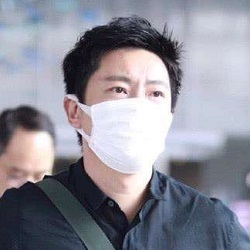mask: (59, 88, 169, 175)
